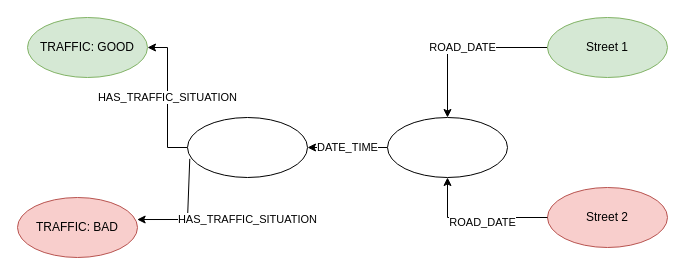
The diagram is 685 pixels wide and 275 high, and some of its shapes have lost their labels. Here are the shapes that lost their labels. From the top down, the centre of each, then its label:
point (247, 147): MINUTE: 00
point (447, 147): HOUR: 14
